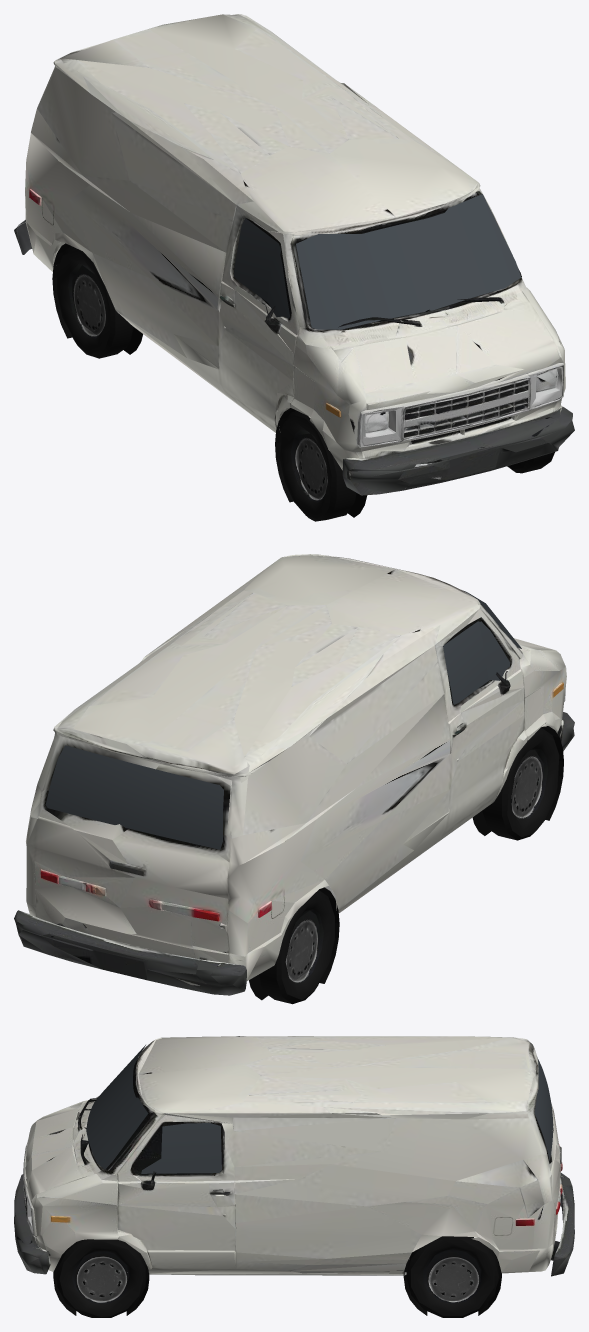
The model's file is van.glb.
3 renders of one model, top to bottom at view 1: azimuth 30°, elevation 25°; view 2: azimuth 150°, elevation 25°; view 3: azimuth 270°, elevation 25°, orthographic. The views are drawn at different scales.
Visible parts, largest first — view 1: body, glass, wheel_fr, wheel_rr; view 2: body, glass, wheel_fr, wheel_rr; view 3: body, glass, wheel_rl, wheel_fl.
Part boxes in pixels (bbox=[...]): body: bbox=[14, 14, 574, 517]; glass: bbox=[234, 194, 521, 329]; wheel_fr: bbox=[279, 411, 356, 521]; wheel_rr: bbox=[57, 246, 133, 358]; body: bbox=[14, 554, 574, 1000]; glass: bbox=[45, 590, 521, 849]; wheel_fr: bbox=[482, 728, 559, 840]; wheel_rr: bbox=[259, 890, 334, 1004]; body: bbox=[14, 1036, 574, 1315]; glass: bbox=[86, 1045, 553, 1173]; wheel_rl: bbox=[406, 1236, 498, 1317]; wheel_fl: bbox=[57, 1239, 145, 1317].
Bounding box in the file's own units: 2.1 × 2.22 × 5.3.
Materials: 3 (2 with a texture image).
